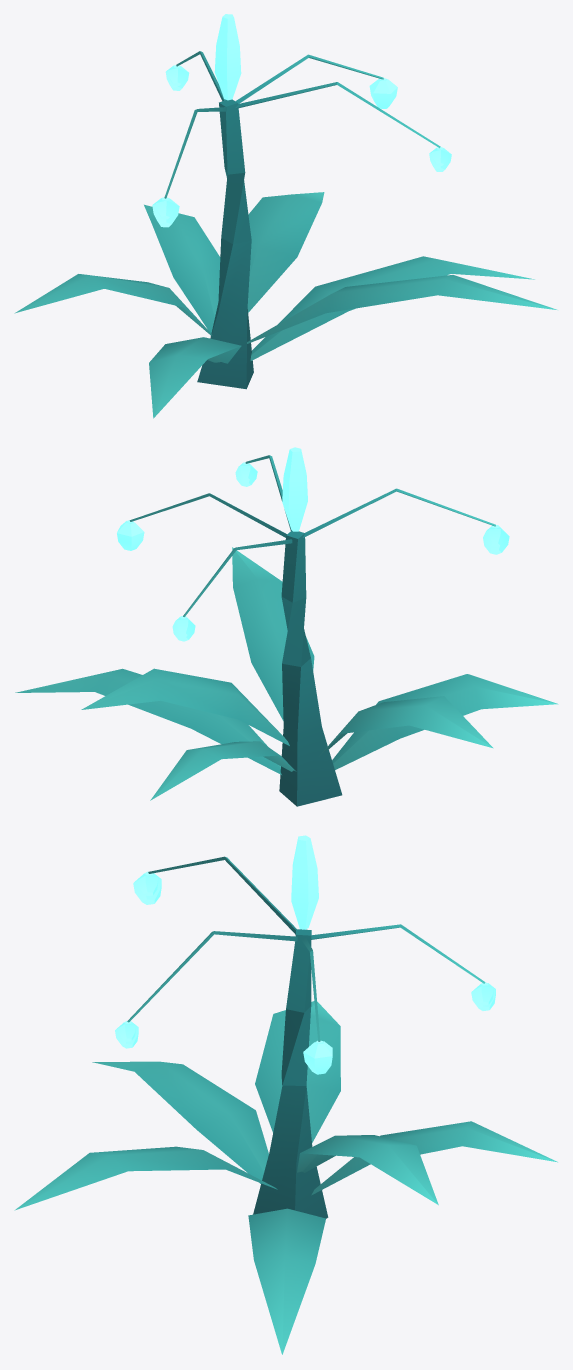
Rendered from lantern_bloom_lod2.glb.
The picture shows the model from 3 angles, top to bottom: view 1: azimuth 30°, elevation 25°; view 2: azimuth 150°, elevation 25°; view 3: azimuth 270°, elevation 25°; orthographic projection. The views are drawn at different scales.
Visible parts, largest first — view 1: LanternBloom; view 2: LanternBloom; view 3: LanternBloom.
Boxes of the visible parts, <box> form: LanternBloom: <box>14,14,556,418</box>; LanternBloom: <box>15,447,558,806</box>; LanternBloom: <box>14,835,557,1354</box>.
Bounding box in the file's own units: 2.58 × 1.74 × 2.2.
